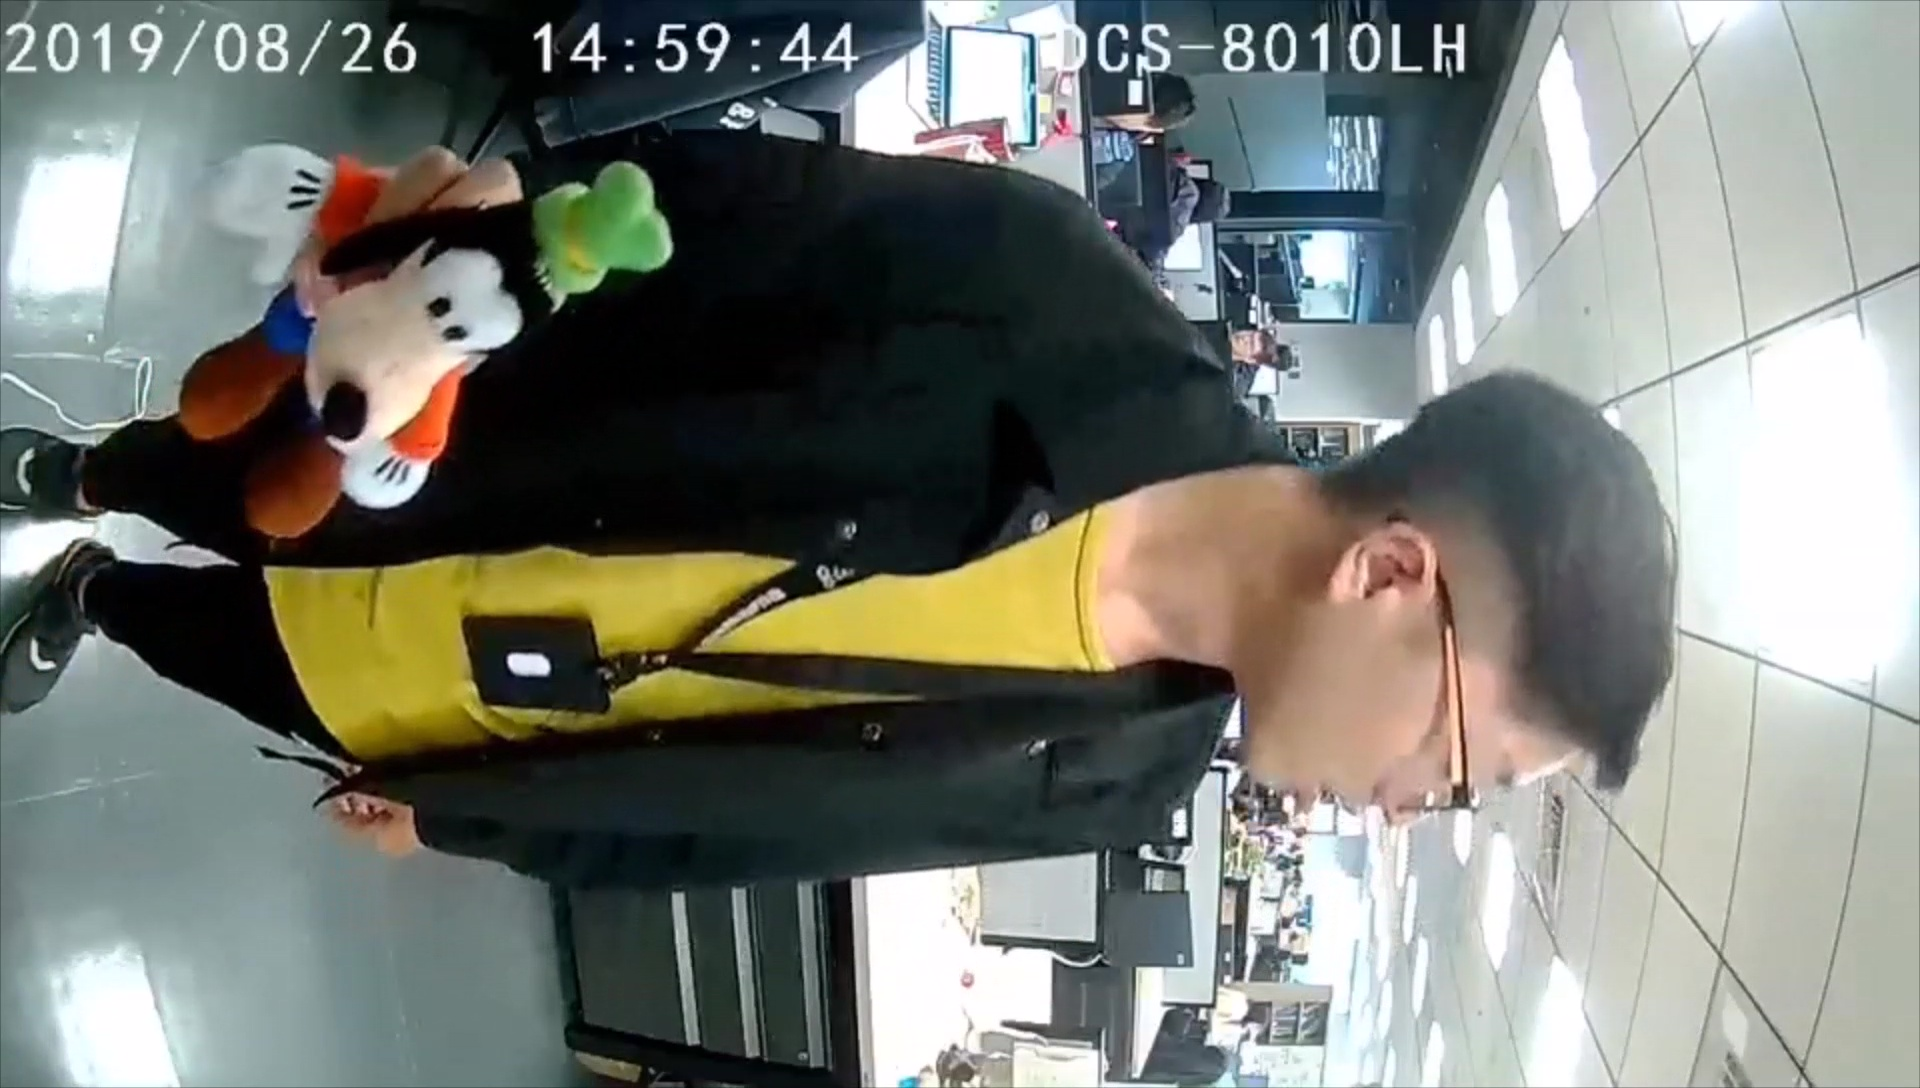goofy: (174, 137, 669, 539)
